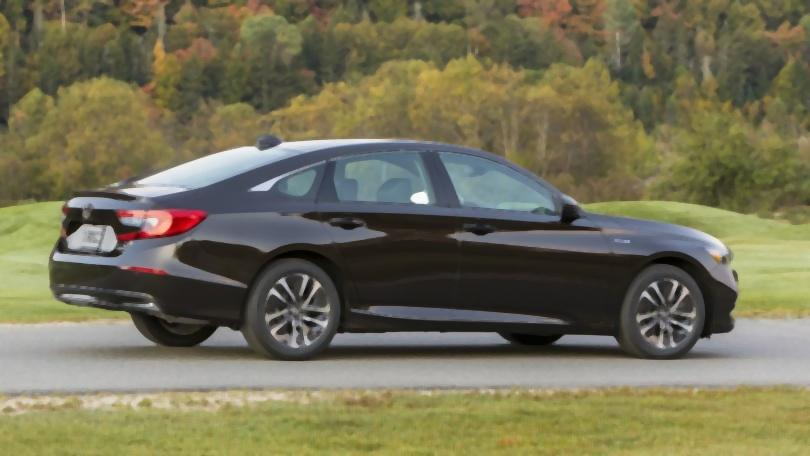Car boot: (62, 177, 199, 205)
Driver-s door - -F-R-: (427, 144, 609, 336)
Fender - -F-R-: (589, 209, 696, 314)
Fender - -R-R-: (207, 184, 337, 324)
Front bumper: (689, 264, 748, 344)
Headlight - -R-: (700, 240, 739, 272)
Passenger-s door - -R-R-: (317, 141, 468, 327)
Rear bumper: (42, 237, 202, 332)
Rear light - -R-: (117, 206, 211, 244)
Side bumper - -R-: (337, 301, 620, 353)
Side mirror - -R-: (557, 199, 583, 229)
